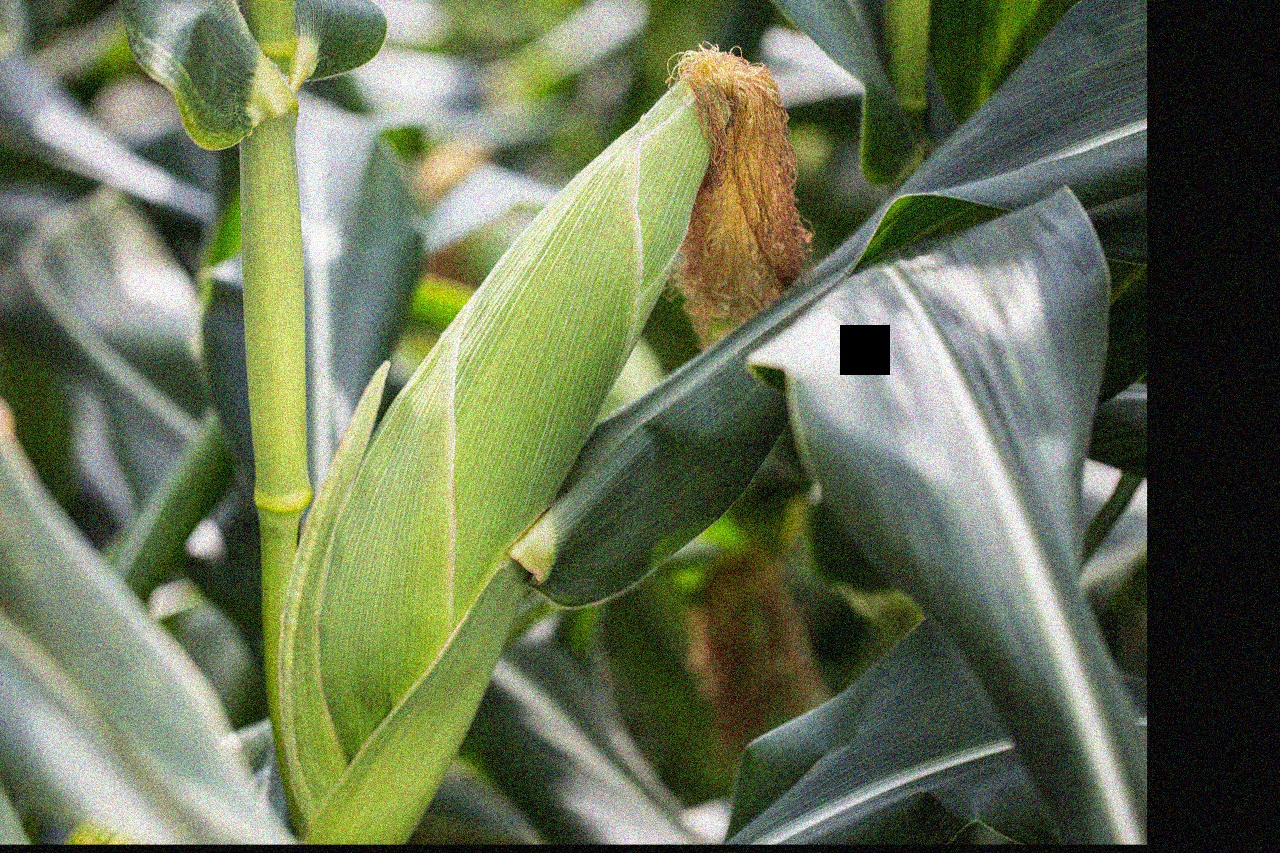corn_plant: (275, 24, 814, 815)
